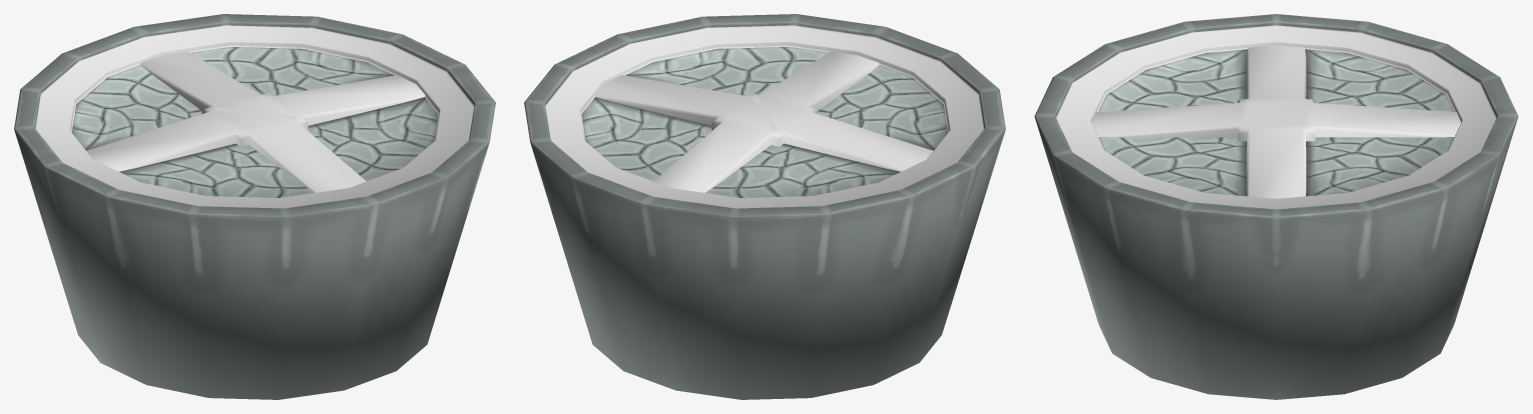
Rendered from resurrection_shrine.fbx.
3 views of the same model, side by side, from view 1: azimuth 30°, elevation 25°; view 2: azimuth 150°, elevation 25°; view 3: azimuth 270°, elevation 25° (orthographic).
Parts seen in each view (by area): view 1: Cylinder.001, Cube.003; view 2: Cylinder.001, Cube.003; view 3: Cylinder.001, Cube.003.
Part boxes in pixels (<box>): Cylinder.001: <box>14,14,495,399</box>; Cube.003: <box>86,51,425,192</box>; Cylinder.001: <box>524,14,1005,399</box>; Cube.003: <box>594,51,933,192</box>; Cylinder.001: <box>1034,14,1518,399</box>; Cube.003: <box>1092,45,1460,198</box>.
Size of the model in its own units: 793 by 382 by 793.
